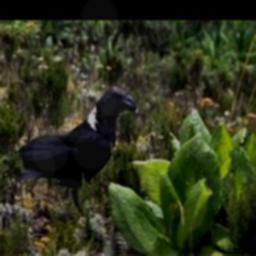Crow: (17, 84, 138, 213)
